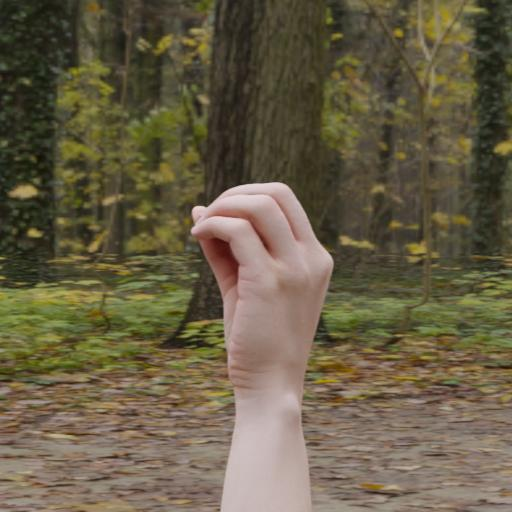O: (187, 178, 337, 408)
